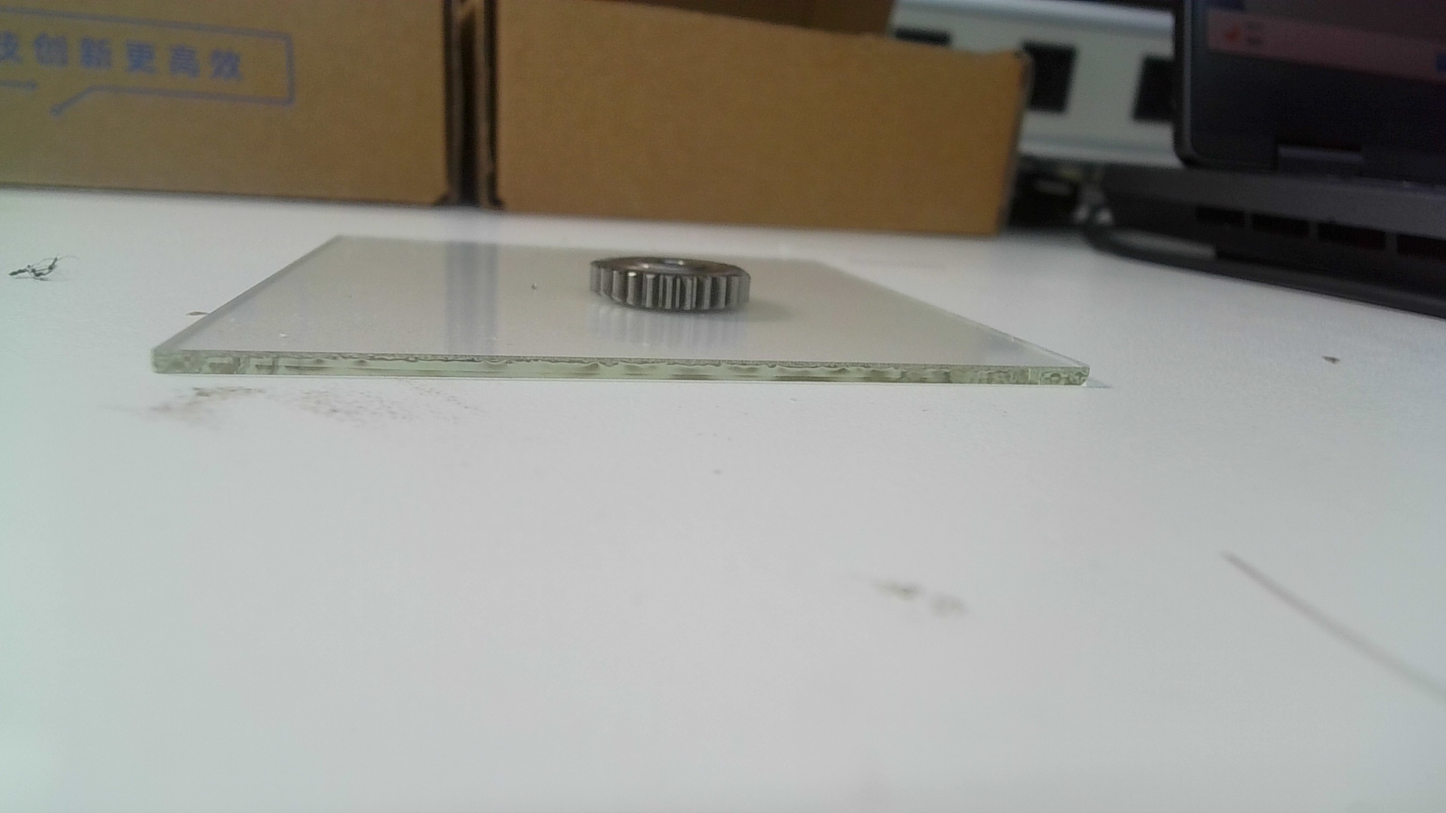gear: (586, 254, 754, 317)
